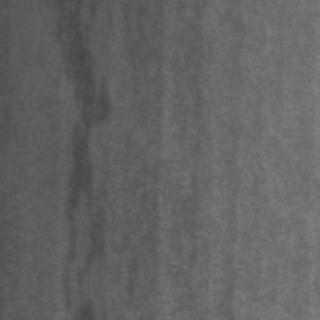inclusion: (46, 2, 110, 314)
